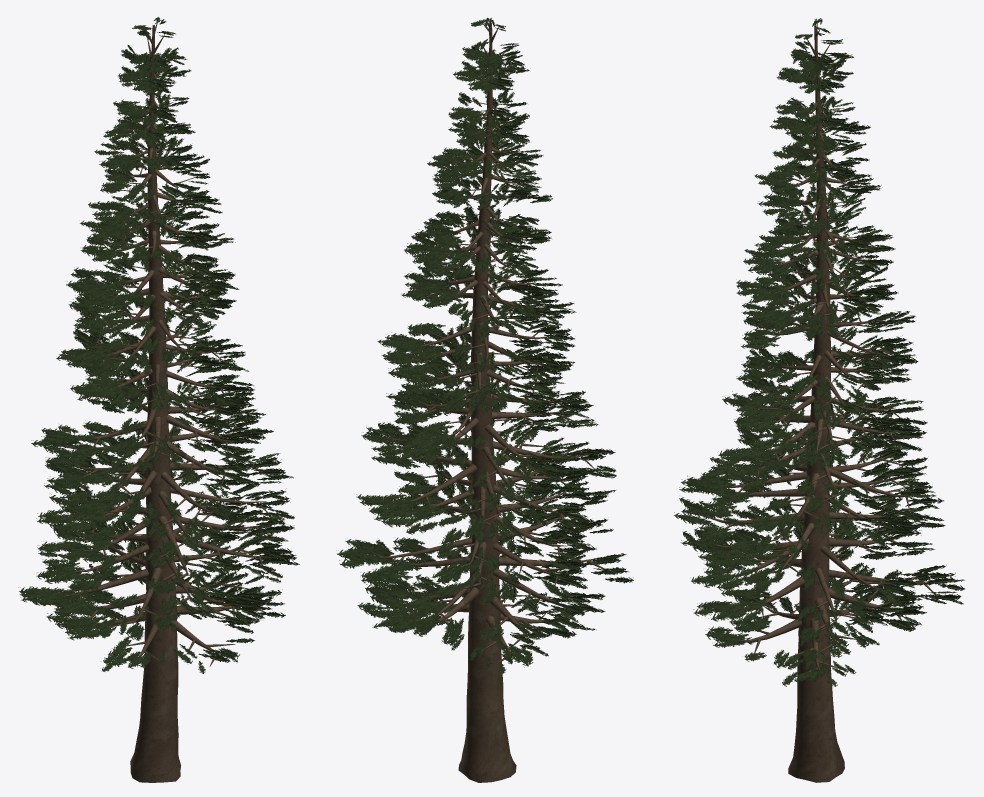
File: pine_tree_002_v4_a_LOD1.gltf
3 renders of one model, left to right at view 1: azimuth 30°, elevation 25°; view 2: azimuth 150°, elevation 25°; view 3: azimuth 270°, elevation 25°, orthographic.
Parts seen in each view (by area): view 1: pine_tree_002_v4_a_LOD1; view 2: pine_tree_002_v4_a_LOD1; view 3: pine_tree_002_v4_a_LOD1.
Part boxes in pixels (x1,y1,x2,y2): pine_tree_002_v4_a_LOD1: (18, 17, 299, 782); pine_tree_002_v4_a_LOD1: (336, 18, 633, 782); pine_tree_002_v4_a_LOD1: (674, 18, 964, 782).
Bounding box in the file's own units: 8.31 × 22.74 × 8.31.
2 materials, 2 textured.
